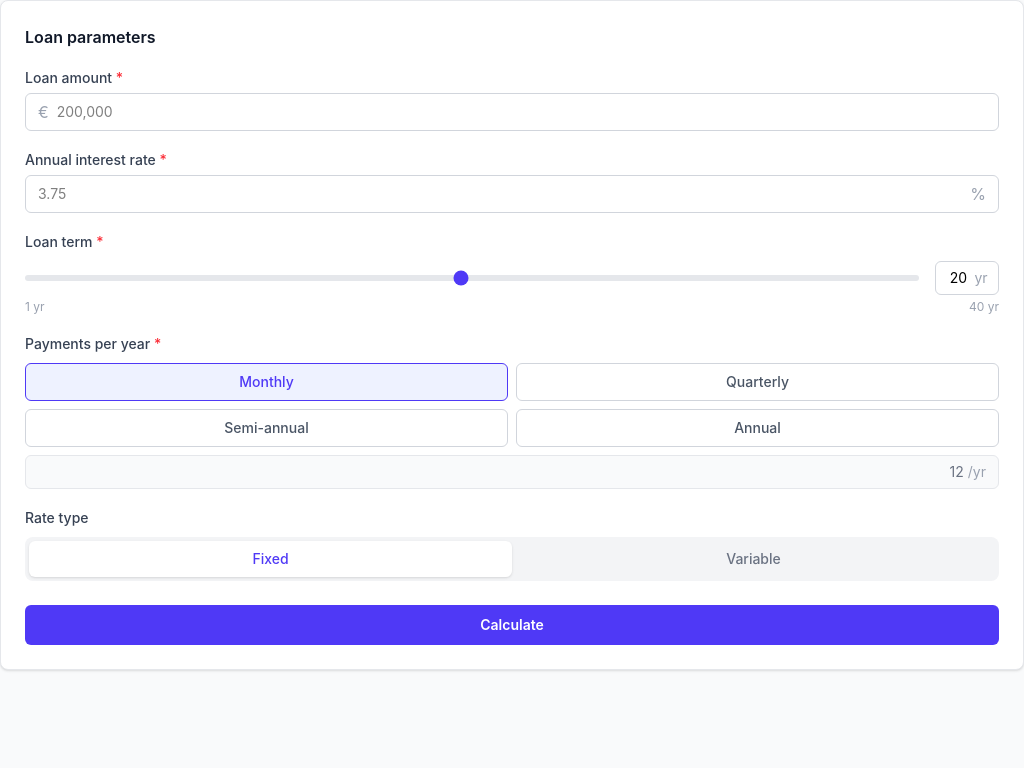
Test: LoanForm validation on submit › shows only the rate error when the rate is negative
The width and height of the screenshot is (1024, 768).
Type "100000" into the number field labelled "Loan amount *".
click(517, 112); type("100000")  # box top-left (49, 94), bottom-right (986, 130)
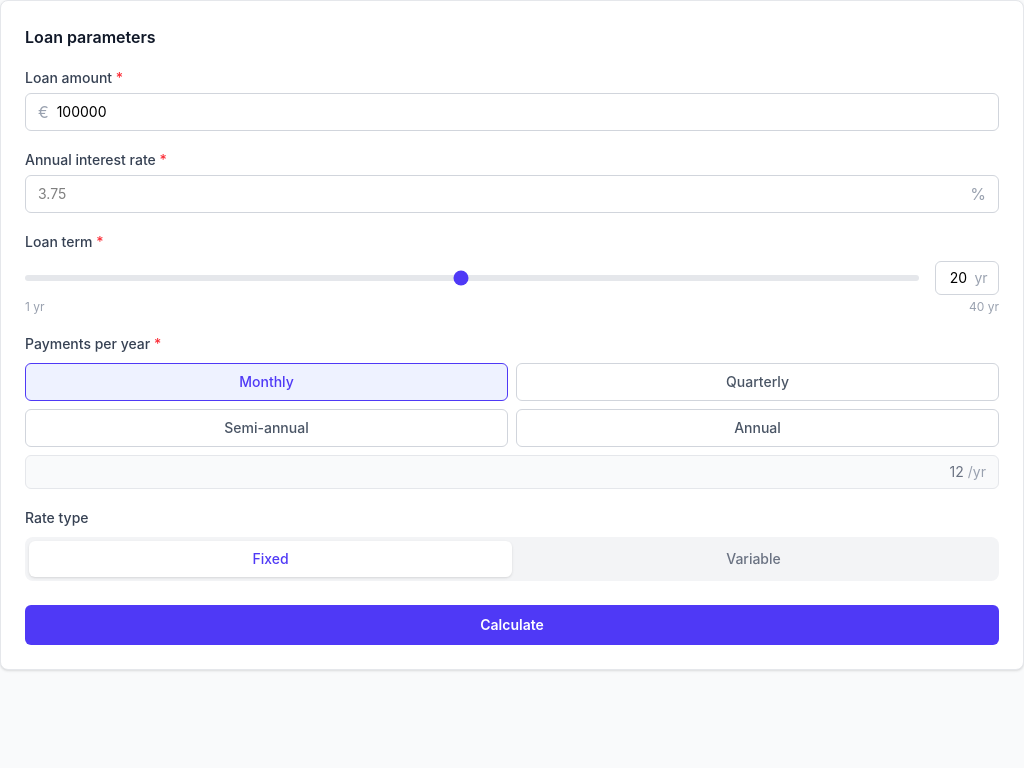
Type "-1" into the number field labelled "Annual interest rate *".
click(504, 194); type("-1")  # box top-left (38, 176), bottom-right (970, 212)
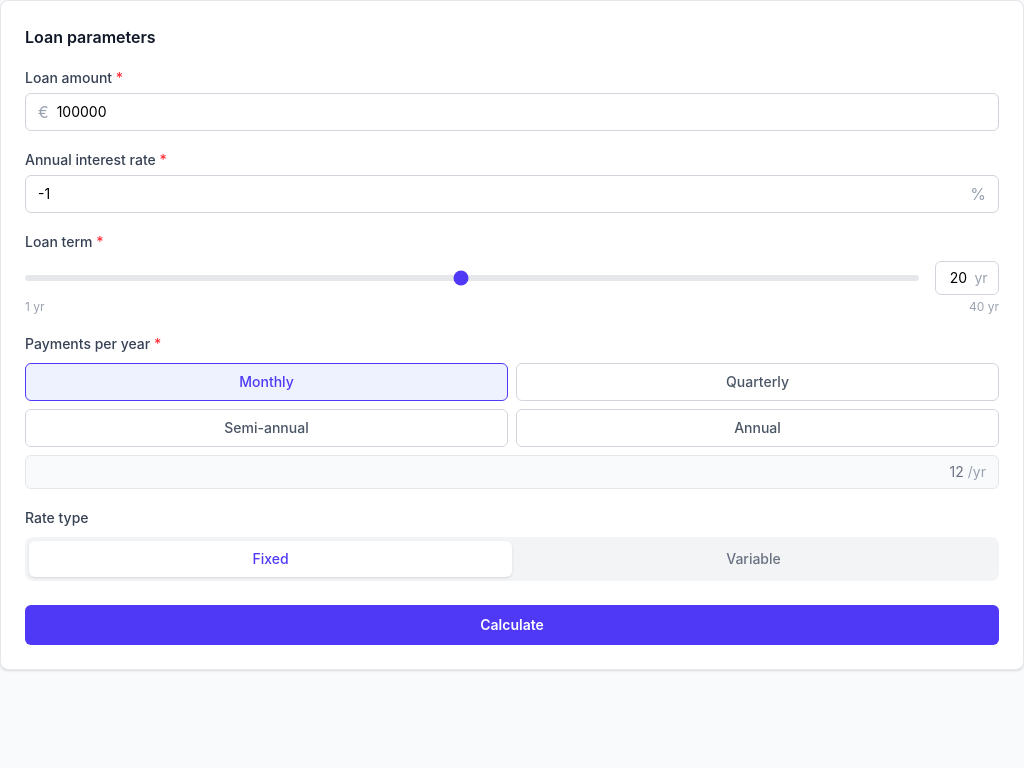
Click the button "Calculate".
click(512, 625)  # box top-left (25, 605), bottom-right (999, 645)
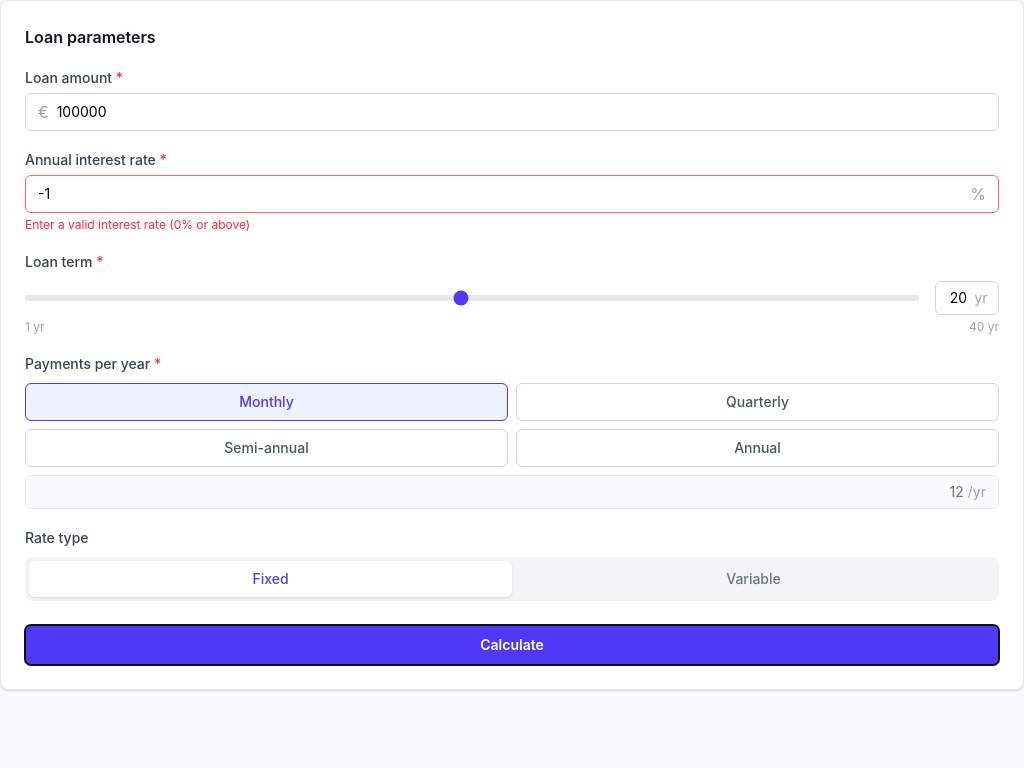
Check: the number of messages is 1, box top-left (25, 217), bottom-right (250, 232)
